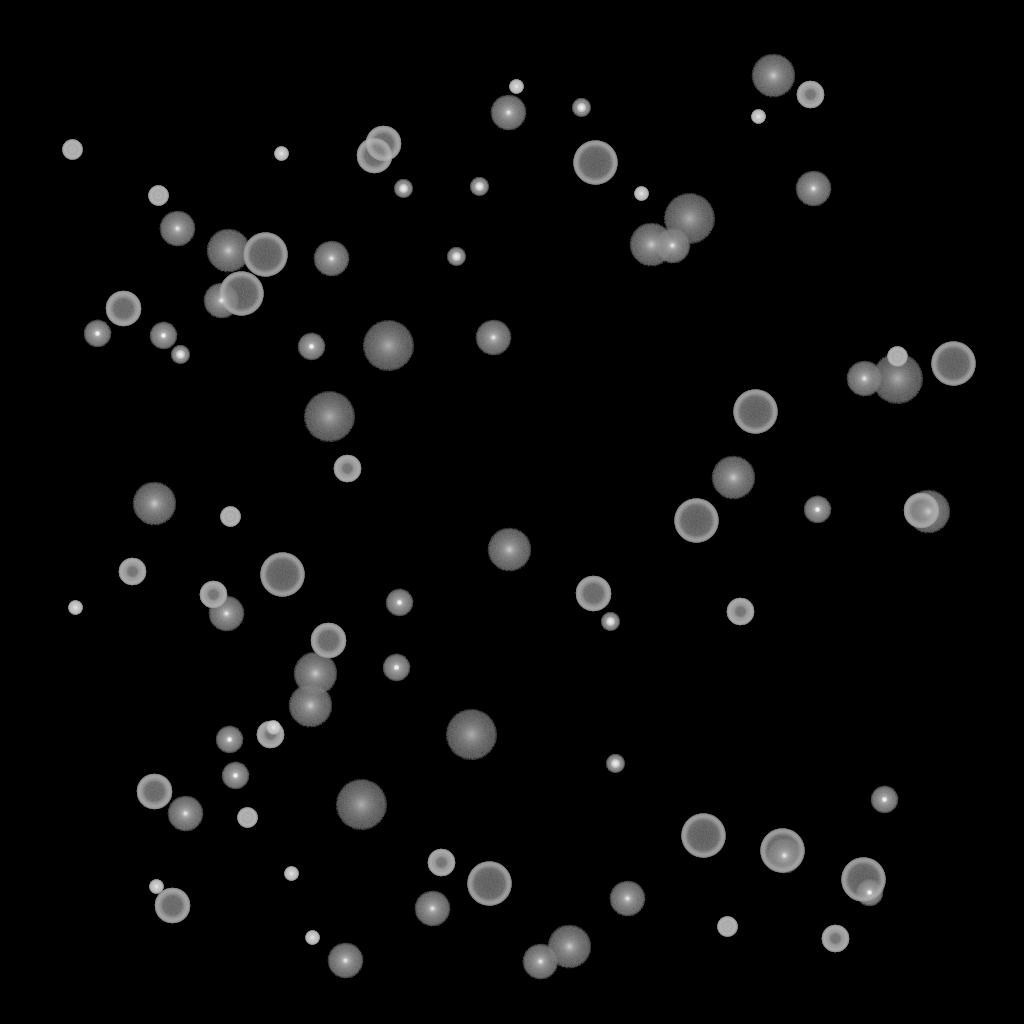depth:-10: (855, 879, 883, 907), (83, 320, 111, 348), (215, 726, 243, 754), (382, 654, 410, 682), (385, 589, 413, 617), (221, 762, 249, 790), (870, 786, 898, 814), (297, 333, 325, 361), (149, 322, 177, 350), (803, 496, 831, 524)
depth:-20: (171, 346, 189, 364), (394, 180, 412, 198), (447, 248, 465, 266), (601, 613, 619, 631), (470, 178, 488, 196), (606, 755, 624, 773), (572, 99, 590, 117)
depth:-30: (266, 721, 280, 735), (634, 187, 648, 201), (509, 80, 523, 94), (274, 147, 288, 161), (149, 880, 163, 894), (751, 110, 765, 124), (305, 931, 319, 945), (68, 601, 82, 615), (284, 867, 298, 881)
depth:-40: (717, 917, 737, 937), (148, 186, 168, 206), (62, 140, 82, 160), (887, 347, 907, 367), (220, 507, 240, 527), (237, 808, 257, 828)
depth:-50: (427, 849, 455, 877), (199, 581, 227, 609), (256, 721, 284, 749), (333, 455, 361, 483), (726, 598, 754, 626), (796, 81, 824, 109), (118, 558, 146, 586), (821, 925, 849, 953)
depth:-60: (105, 291, 141, 327), (356, 138, 392, 174), (310, 623, 346, 659), (154, 888, 190, 924), (365, 126, 401, 162), (575, 576, 611, 612), (136, 774, 172, 810), (903, 493, 939, 529)
depth:-70: (733, 390, 777, 434), (573, 141, 617, 185), (931, 342, 975, 386), (260, 553, 304, 597), (841, 858, 885, 902), (674, 499, 718, 543), (681, 814, 725, 858), (243, 233, 287, 277), (219, 272, 263, 316), (467, 862, 511, 906), (760, 829, 804, 873)
depth:0: (159, 211, 195, 247), (414, 891, 450, 927), (475, 320, 511, 356), (795, 171, 831, 207), (203, 283, 239, 319), (490, 95, 526, 131), (609, 881, 645, 917), (208, 596, 244, 632), (327, 943, 363, 979), (313, 241, 349, 277), (846, 361, 882, 397), (654, 228, 690, 264), (167, 796, 203, 832), (522, 944, 558, 980), (766, 838, 802, 874)
depth:10: (288, 684, 332, 728), (293, 652, 337, 696), (711, 456, 755, 500), (906, 490, 950, 534), (206, 229, 250, 273), (132, 482, 176, 526), (547, 925, 591, 969), (751, 54, 795, 98), (487, 528, 531, 572), (629, 223, 673, 267)
depth:20: (871, 354, 923, 404), (445, 710, 497, 760), (663, 194, 715, 244), (362, 321, 414, 371), (335, 780, 387, 830), (303, 392, 355, 442)
